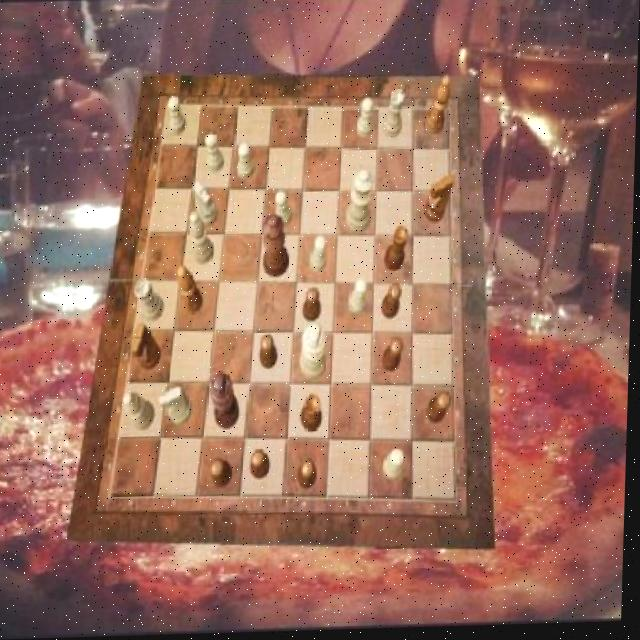bishop: (426, 77, 452, 136), (179, 266, 206, 316)
black-bishop: (211, 373, 243, 431)
black-king: (133, 325, 164, 371), (425, 179, 454, 227)
black-knight: (430, 394, 454, 427), (383, 286, 404, 322), (385, 340, 406, 375), (213, 461, 236, 490), (253, 450, 274, 480), (306, 289, 324, 324), (262, 337, 280, 371), (302, 460, 320, 491)
black-pawn: (263, 215, 292, 279)
black-queen: (387, 227, 411, 273), (302, 395, 325, 433)
black-rook: (190, 212, 216, 266), (125, 393, 159, 432)
white-bishop: (301, 324, 330, 383)
white-king: (161, 388, 195, 427), (195, 182, 222, 229)
white-knight: (205, 135, 226, 175), (385, 450, 409, 483), (168, 97, 188, 136), (358, 99, 376, 141), (351, 281, 370, 317), (239, 143, 257, 181), (312, 238, 330, 275), (278, 193, 295, 229)
white-pawn: (347, 169, 375, 236)
white-queen: (135, 279, 166, 324), (384, 92, 405, 141)
